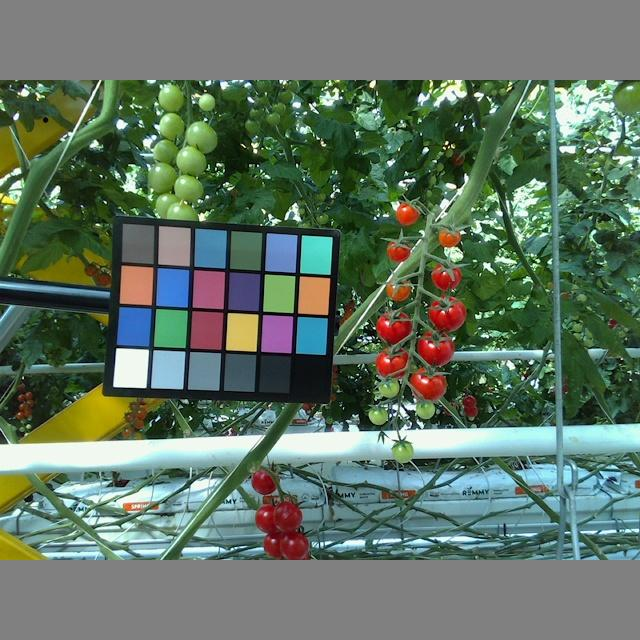green: (185, 121, 217, 152), (176, 141, 205, 174), (145, 164, 178, 193), (173, 174, 204, 203), (153, 137, 181, 168), (156, 85, 185, 111), (159, 112, 184, 140), (390, 436, 414, 464), (376, 378, 399, 399), (415, 398, 435, 420), (369, 408, 390, 426)
red: (428, 295, 467, 333), (374, 344, 411, 381), (418, 332, 456, 368), (375, 310, 413, 344), (410, 371, 448, 402), (272, 500, 304, 531), (249, 466, 283, 494), (432, 259, 461, 290), (277, 533, 310, 560), (256, 502, 283, 533), (385, 280, 412, 303), (394, 203, 418, 227), (437, 227, 463, 248), (386, 241, 411, 261)
